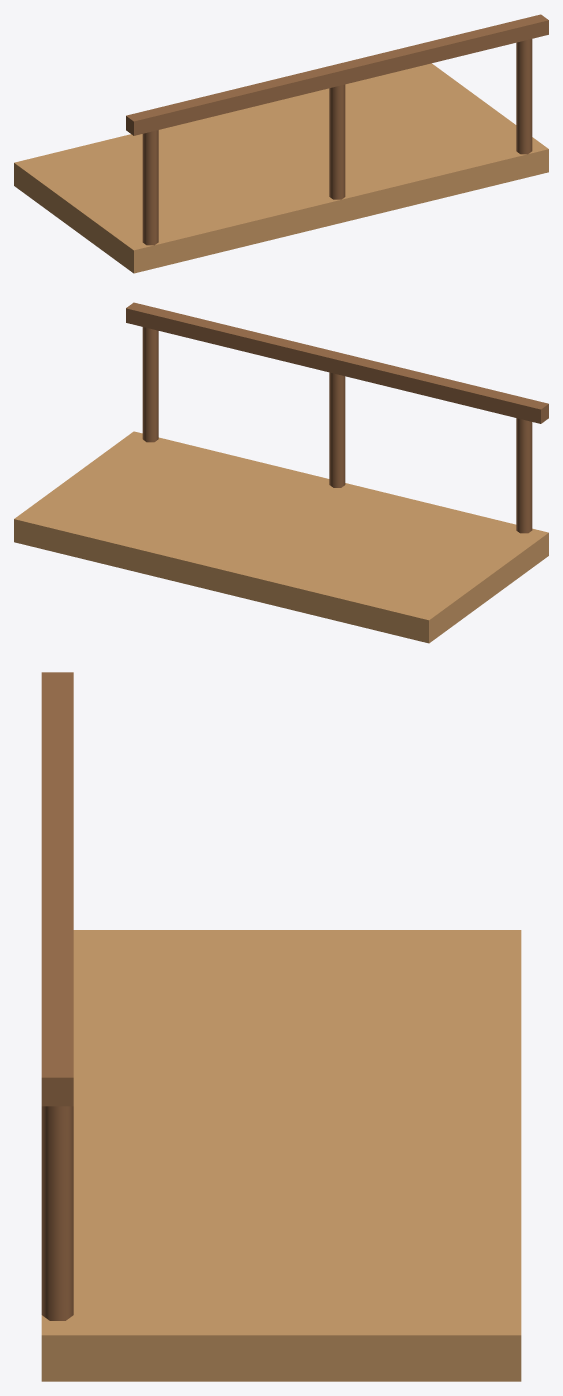
The model's file is balcony.glb.
3 renders of one model, top to bottom at view 1: azimuth 30°, elevation 25°; view 2: azimuth 150°, elevation 25°; view 3: azimuth 270°, elevation 25°, orthographic. The views are drawn at different scales.
Bounding box in the file's own units: 3 × 1.05 × 1.5.
